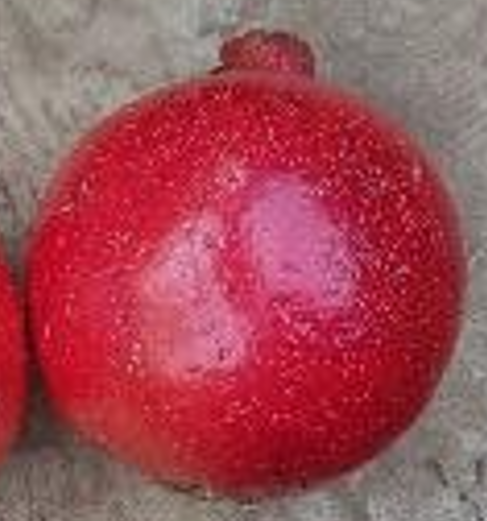pomegranate_A: (24, 28, 465, 501)
